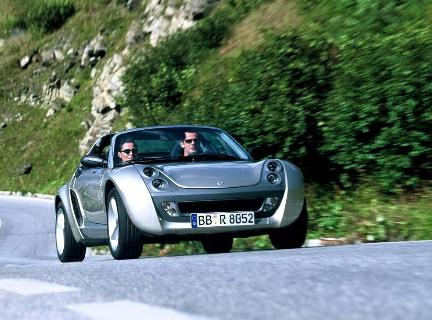smart-roadster: (50, 123, 318, 258)
